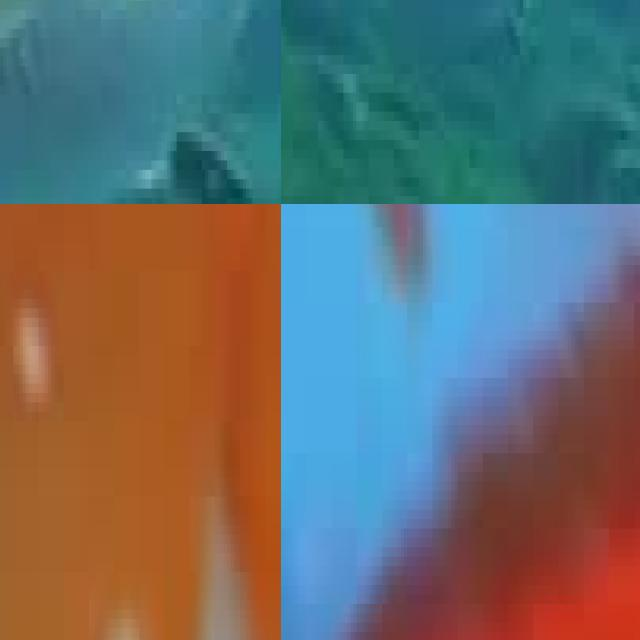fish: (0, 204, 281, 640), (0, 0, 281, 204)
